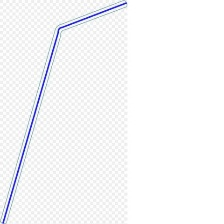drinking_straw: (0, 0, 131, 224)
